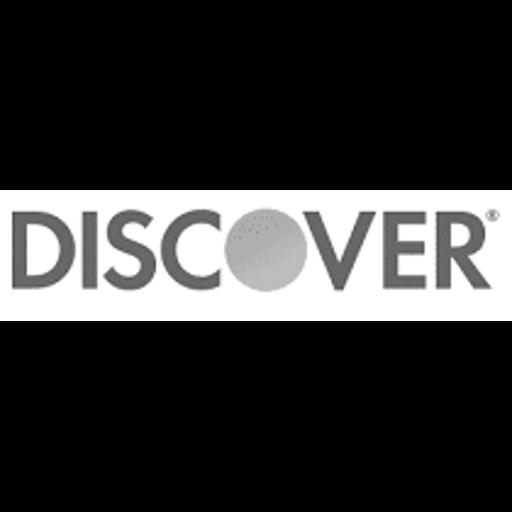Discover: (0, 190, 512, 321)
